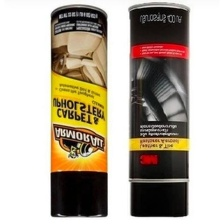aerosol_cans: (122, 0, 196, 221), (47, 2, 111, 221)
